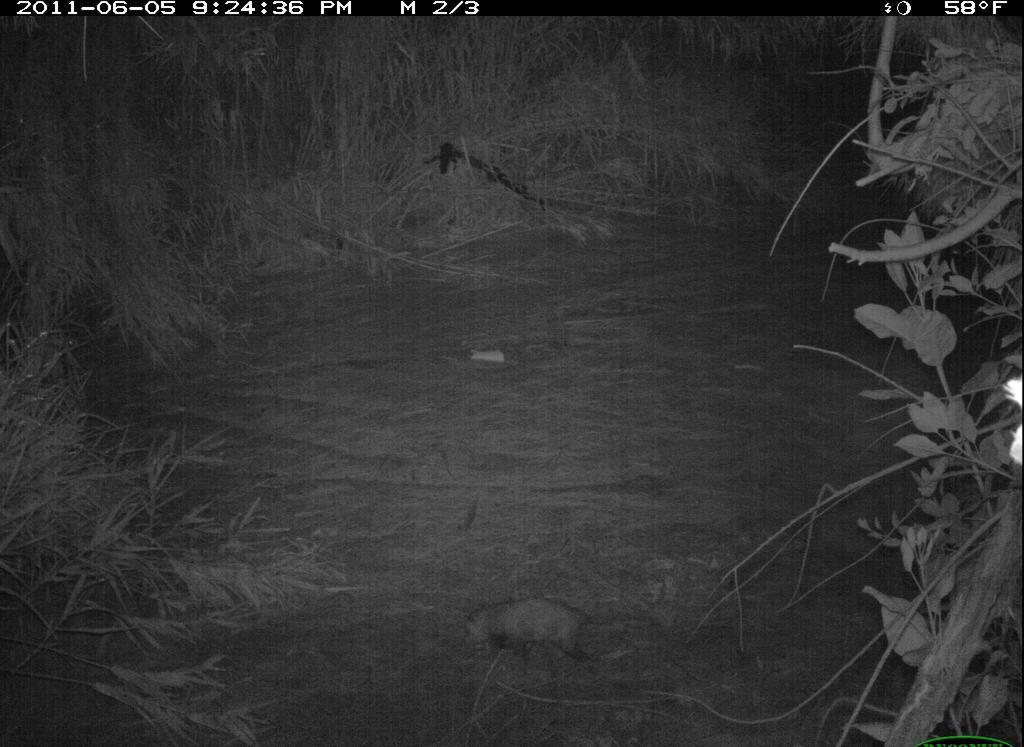opossum: (457, 588, 632, 675)
